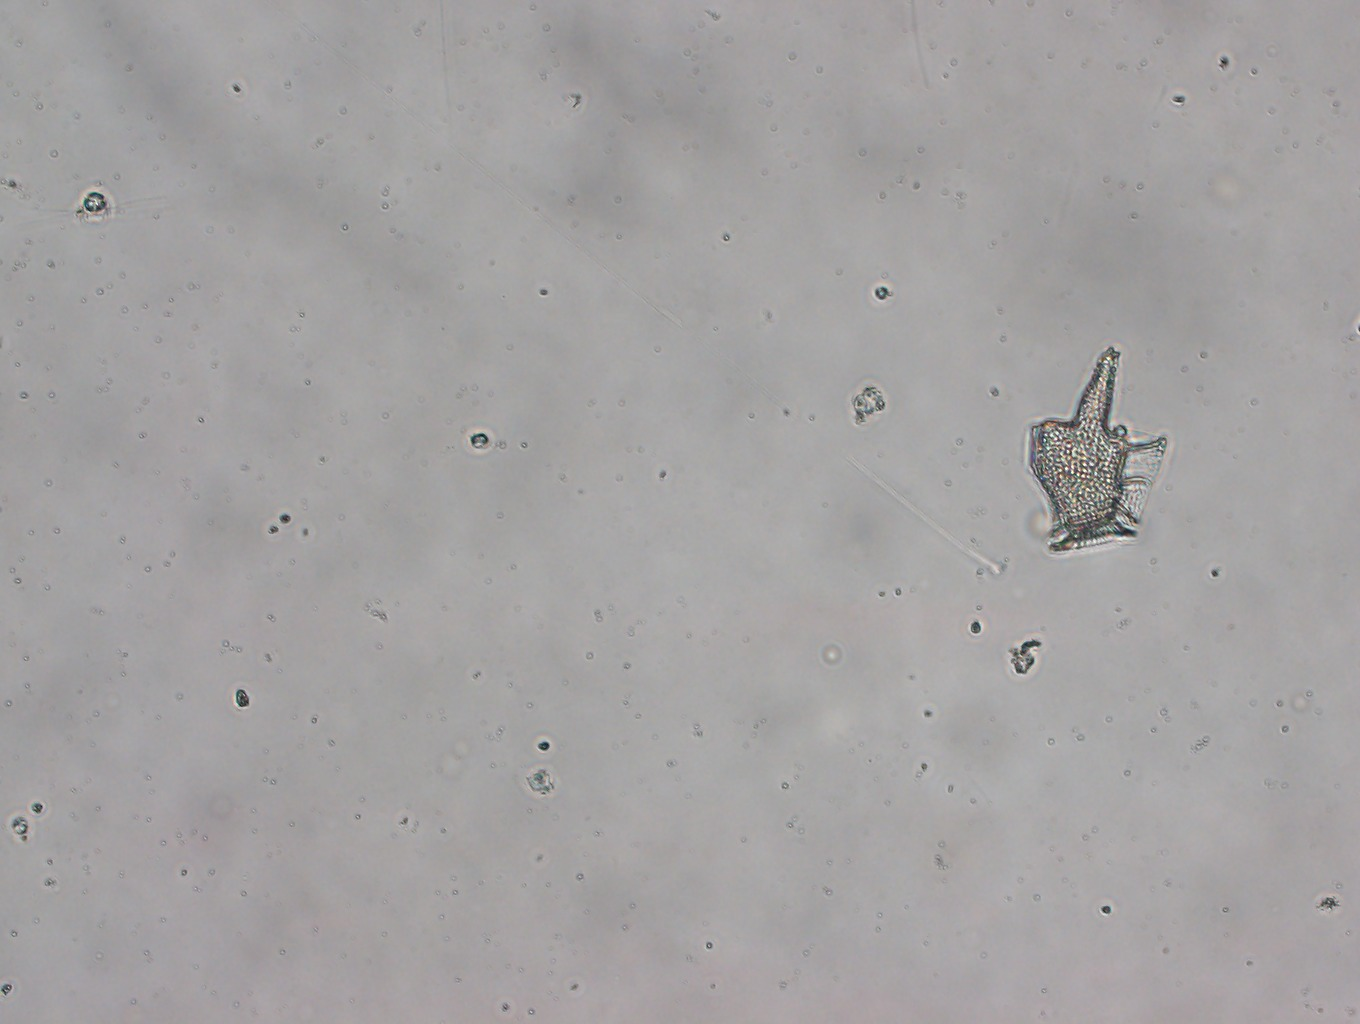dinophysis caudata: (1026, 344, 1170, 553)
